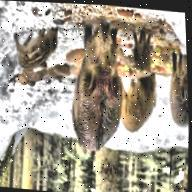boar: (52, 3, 117, 163), (113, 79, 165, 139), (8, 23, 61, 79), (160, 65, 190, 142)
